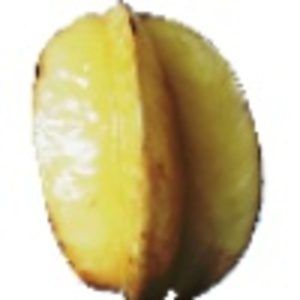carambola: (30, 1, 265, 300)
